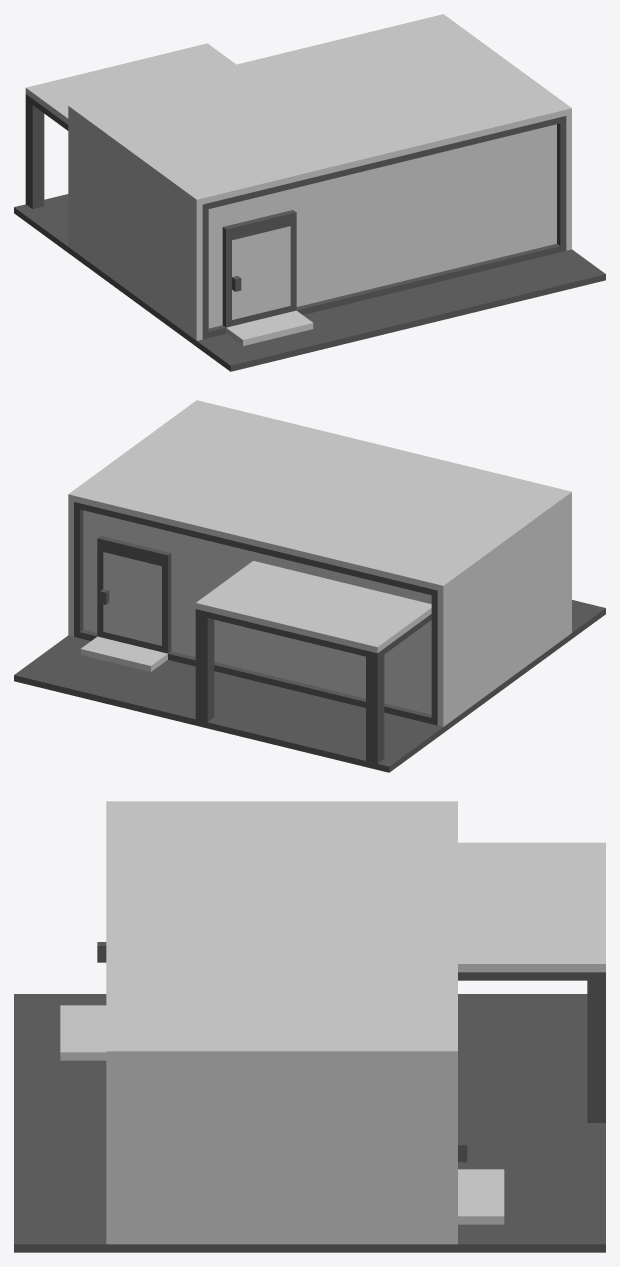
File: bld_house2d.obj
The picture shows the model from 3 angles, top to bottom: view 1: azimuth 30°, elevation 25°; view 2: azimuth 150°, elevation 25°; view 3: azimuth 270°, elevation 25°; orthographic projection. The views are drawn at different scales.
Bounding box in the file's own units: 64 × 24 × 64.
